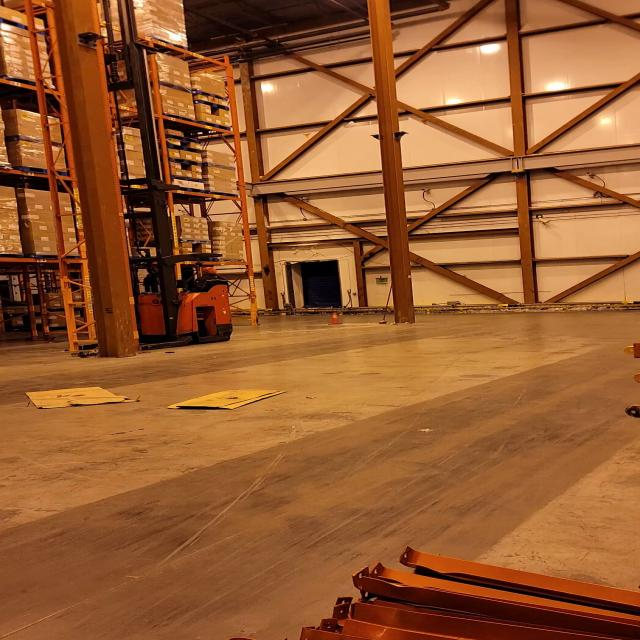forklift: (61, 180, 236, 360)
human: (174, 262, 234, 302)
objectofinterest: (28, 0, 126, 358), (21, 384, 142, 412), (162, 386, 284, 412)
